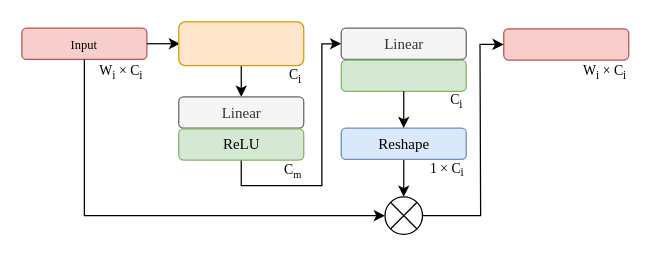
The diagram is 651 pixels wide and 256 high, and some of its shapes have lost their labels. The shapes that lost their labels are listed below. From the top down, each one's centre as x and y in pixels, then its label:
the point at 241,43: Global Average Pooling
the point at 565,44: Output
the point at 403,75: Sigmoid
